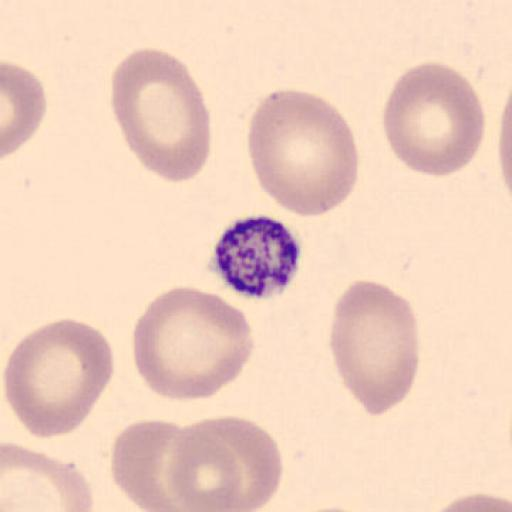Platelet: (205, 212, 304, 300)
RBC: (246, 87, 361, 219), (132, 283, 255, 402), (109, 46, 212, 185), (2, 318, 116, 439), (328, 277, 420, 418), (382, 61, 487, 179), (167, 413, 285, 512), (110, 417, 198, 512), (2, 440, 95, 512), (166, 429, 244, 512), (1, 60, 47, 160), (424, 491, 512, 512), (498, 96, 512, 204), (295, 503, 366, 512)
